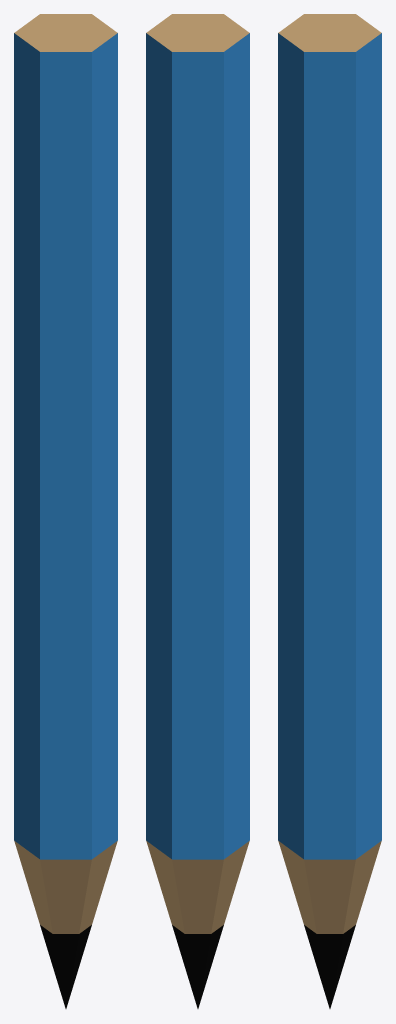
File: Pencil.fbx
3 renders of one model, left to right at view 1: azimuth 90°, elevation 25°; view 2: azimuth 210°, elevation 25°; view 3: azimuth 270°, elevation 25°, orthographic.
Parts seen in each view (by area): view 1: Cylinder; view 2: Cylinder; view 3: Cylinder.
Boxes of the visible parts, bbox=[...] form: Cylinder: bbox=[14, 14, 117, 1008]; Cylinder: bbox=[146, 14, 249, 1008]; Cylinder: bbox=[278, 14, 381, 1008].
Size of the model in its own units: 16.66 by 200 by 19.23.
